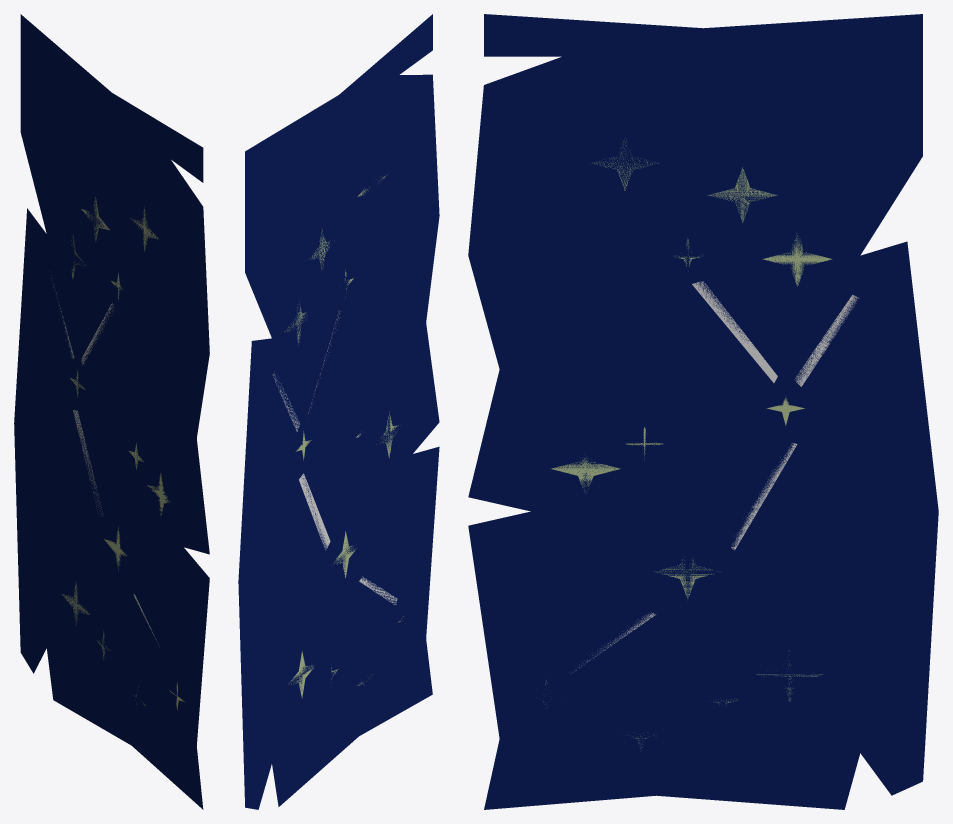
The model's file is model_loc_897_q.obj.
The picture shows the model from 3 angles, left to right: view 1: azimuth 30°, elevation 25°; view 2: azimuth 150°, elevation 25°; view 3: azimuth 270°, elevation 25°; orthographic projection. The views are drawn at different scales.
Visible parts, largest first — view 1: 2031; view 2: 2031; view 3: 2031.
Boxes of the visible parts, box(x1,y1,x2,y2) form: 2031: box(14, 14, 209, 809); 2031: box(238, 14, 439, 809); 2031: box(468, 14, 938, 809).
Bounding box in the file's own units: 0 × 224 × 120.
